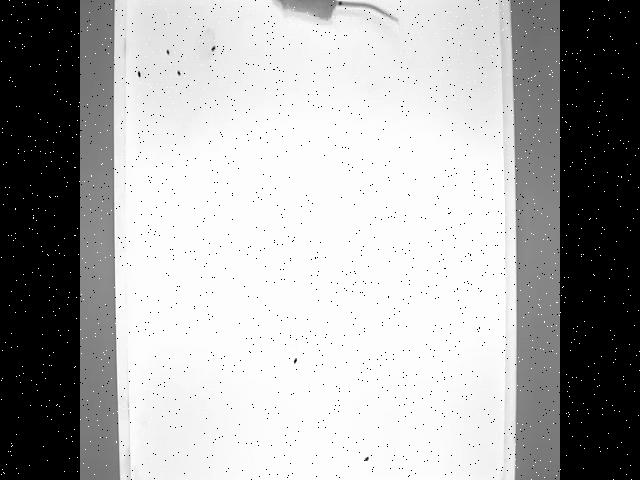Tikus: (269, 0, 399, 30)
